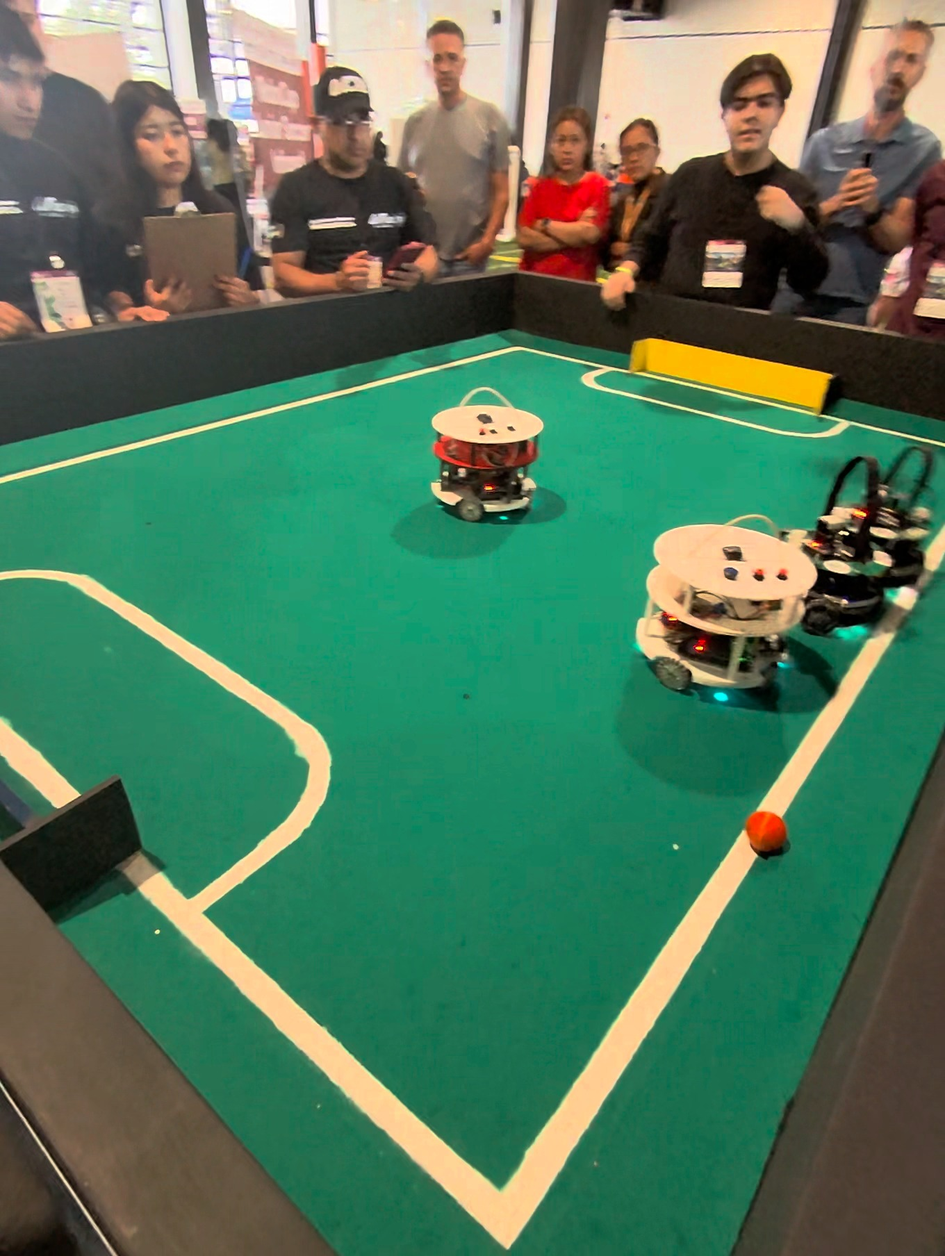Robot: (633, 494, 797, 720), (801, 455, 901, 647), (422, 381, 544, 536), (857, 427, 944, 617)
pelota: (745, 811, 790, 858)
